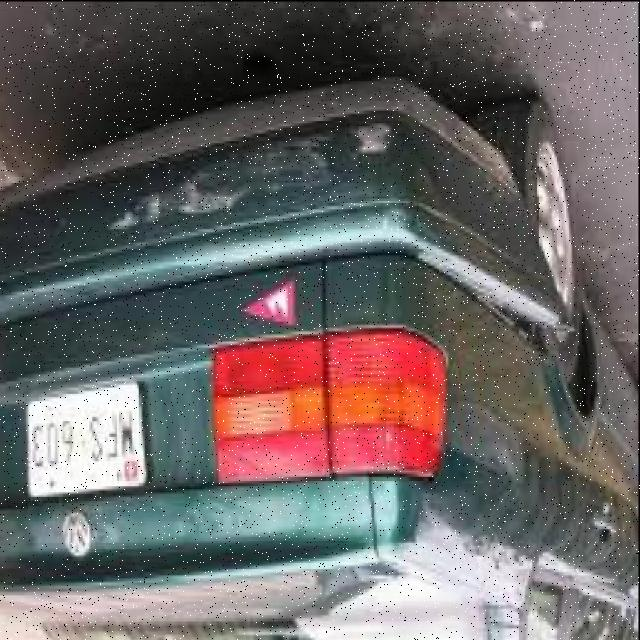damage: (102, 119, 389, 237), (422, 245, 570, 364)
